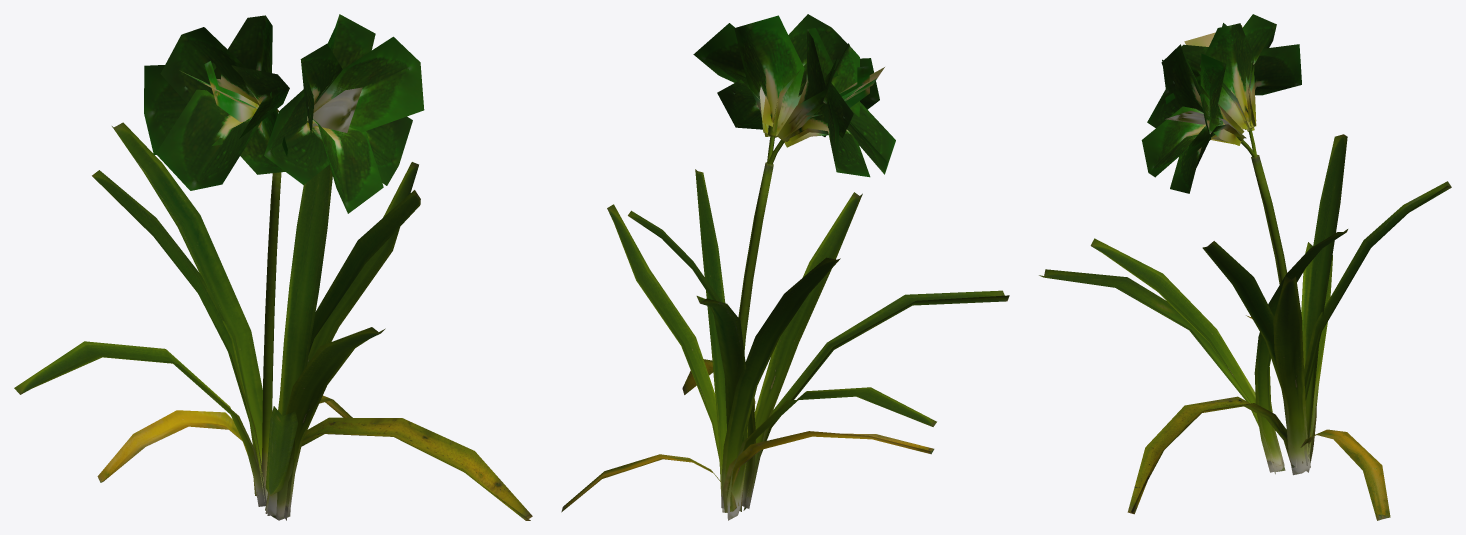
Rendered from Amaryllis_OG_normal_greenyellow.glb.
3 renders of one model, left to right at view 1: azimuth 30°, elevation 25°; view 2: azimuth 150°, elevation 25°; view 3: azimuth 270°, elevation 25°, orthographic. The views are drawn at different scales.
Visible parts, largest first — view 1: og; view 2: og; view 3: og.
Part boxes in pixels (bbox=[...]): og: bbox=[14, 14, 532, 520]; og: bbox=[561, 14, 1009, 520]; og: bbox=[1039, 14, 1451, 520].
Bounding box in the file's own units: 1.36 × 1.74 × 1.51.
Materials: 1 (1 with a texture image).
